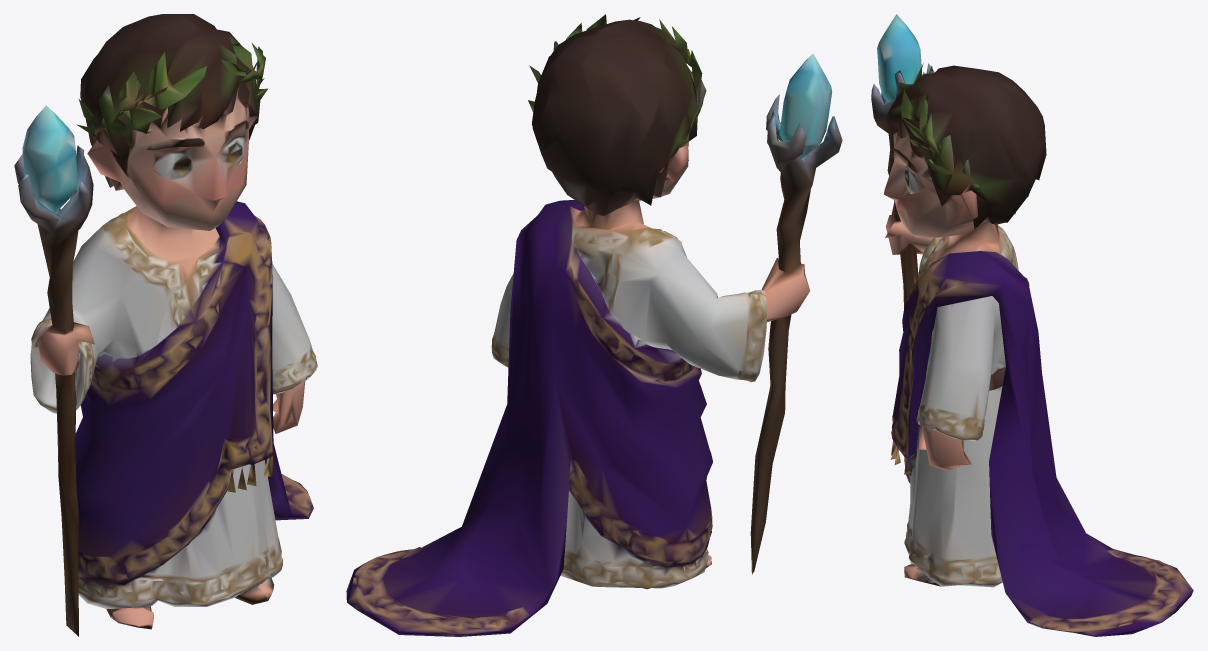
The model's file is vestec_m_lo.glb.
3 renders of one model, left to right at view 1: azimuth 30°, elevation 25°; view 2: azimuth 150°, elevation 25°; view 3: azimuth 270°, elevation 25°, orthographic. The views are drawn at different scales.
Size of the model in its own units: 1.4 by 1.9 by 1.15.
